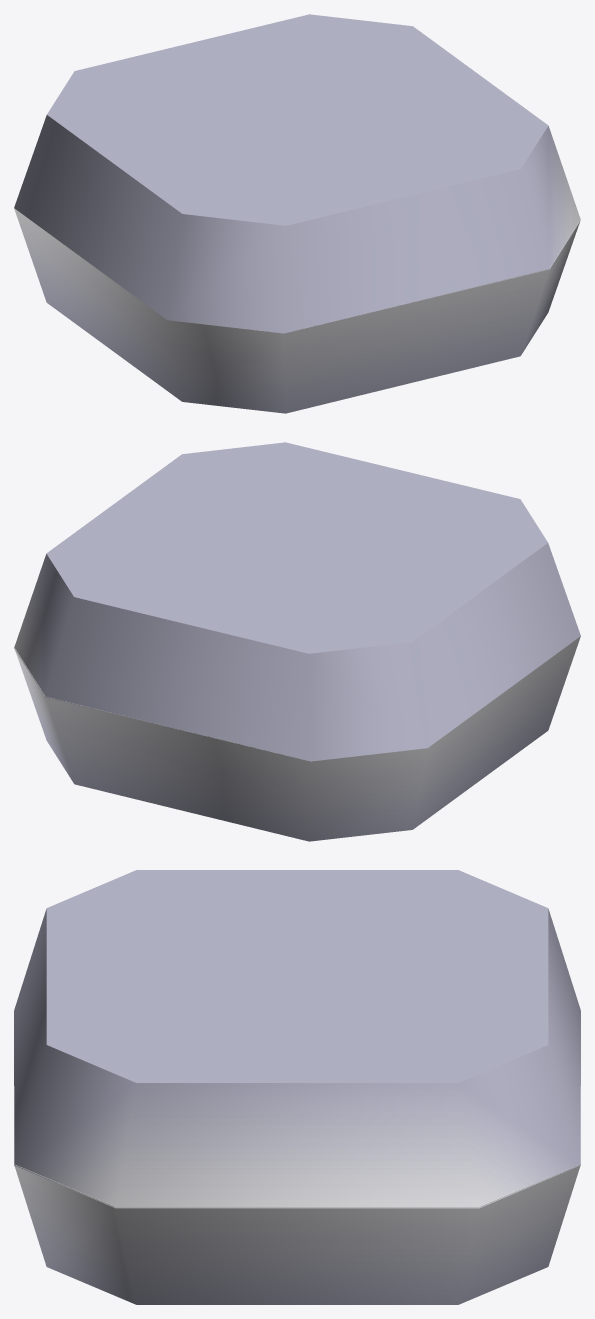
The model's file is StyrofoamContainerClosed.glb.
3 renders of one model, top to bottom at view 1: azimuth 30°, elevation 25°; view 2: azimuth 150°, elevation 25°; view 3: azimuth 270°, elevation 25°, orthographic. The views are drawn at different scales.
Visible parts, largest first — view 1: lid, styrofoam; view 2: lid, styrofoam; view 3: lid, styrofoam.
Part boxes in pixels (box(x1,y1,x2,y2)): lid: box(14, 14, 580, 333); styrofoam: box(14, 208, 580, 413); lid: box(14, 442, 580, 761); styrofoam: box(14, 636, 580, 841); lid: box(14, 870, 580, 1208); styrofoam: box(14, 1086, 580, 1304).
Size of the model in its own units: 0.7589 by 0.3294 by 0.7589.
1 material, 1 textured.
